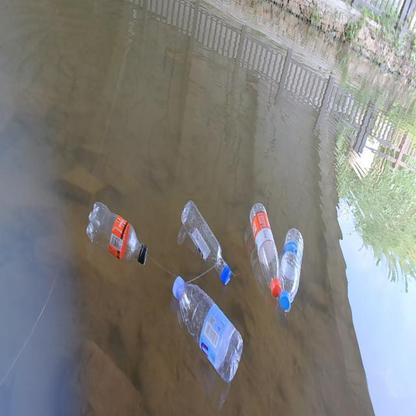plastic bottle: (171, 276, 244, 383), (180, 199, 231, 285), (85, 202, 149, 266), (248, 203, 283, 297)
